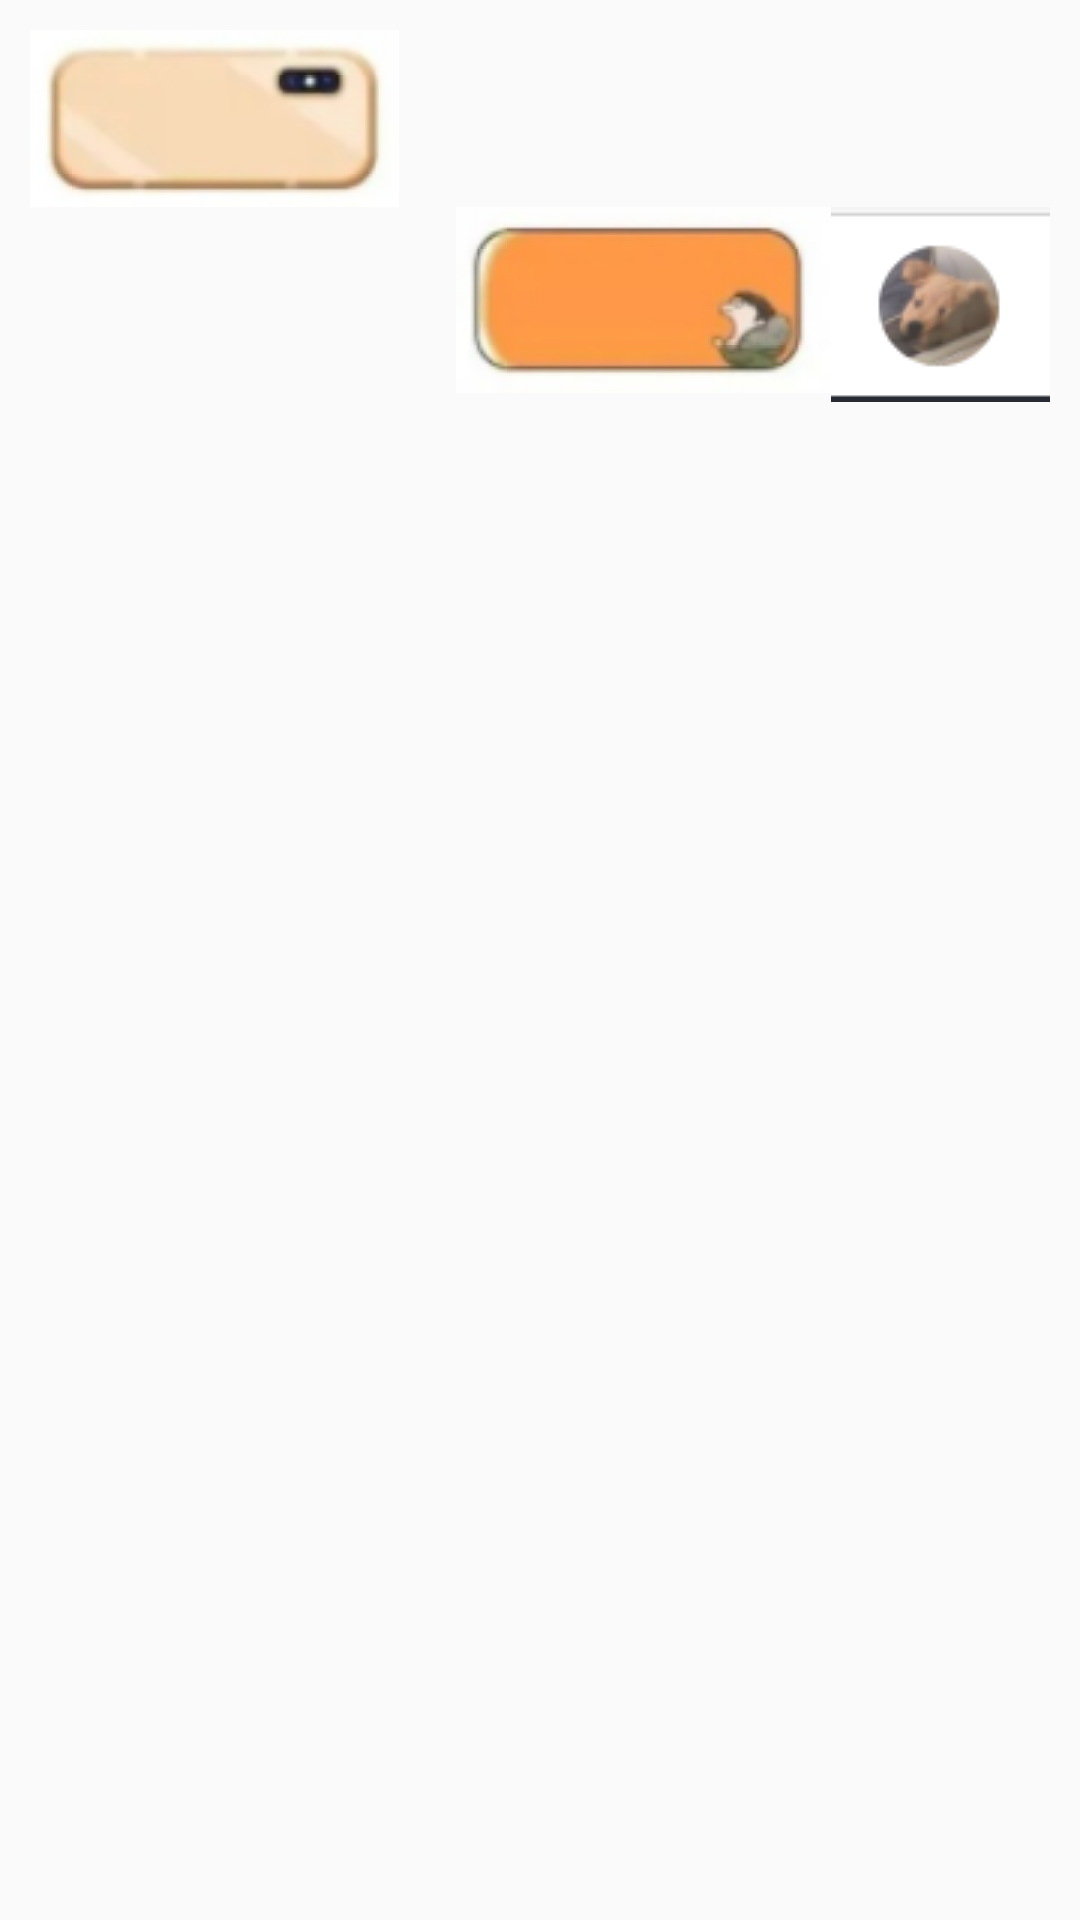

Where icons sit on this 1080 x 1920 app screen, as (x1, y1, x2, y2):
head: (831, 213, 1050, 402)
